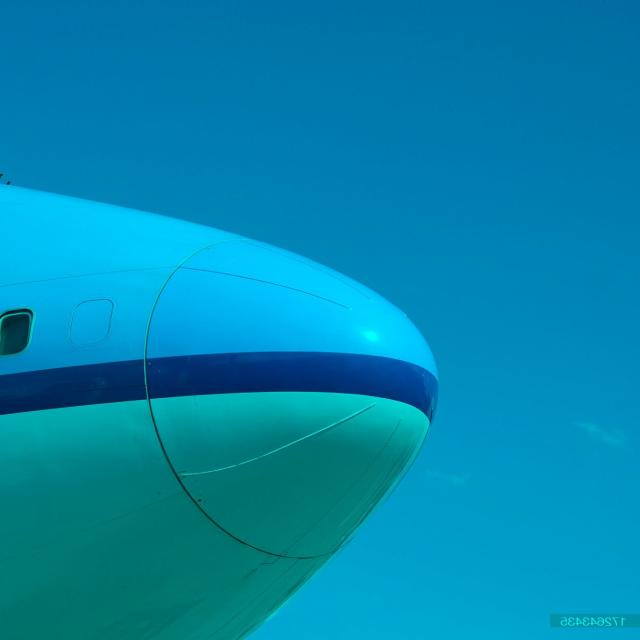Rupture: (252, 557, 288, 567)
